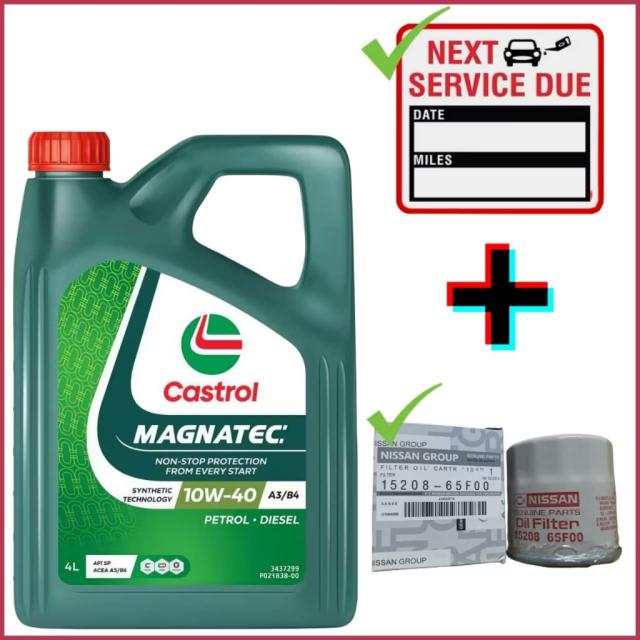motor_oil: (8, 123, 357, 634)
oil_filter: (506, 431, 628, 579)
